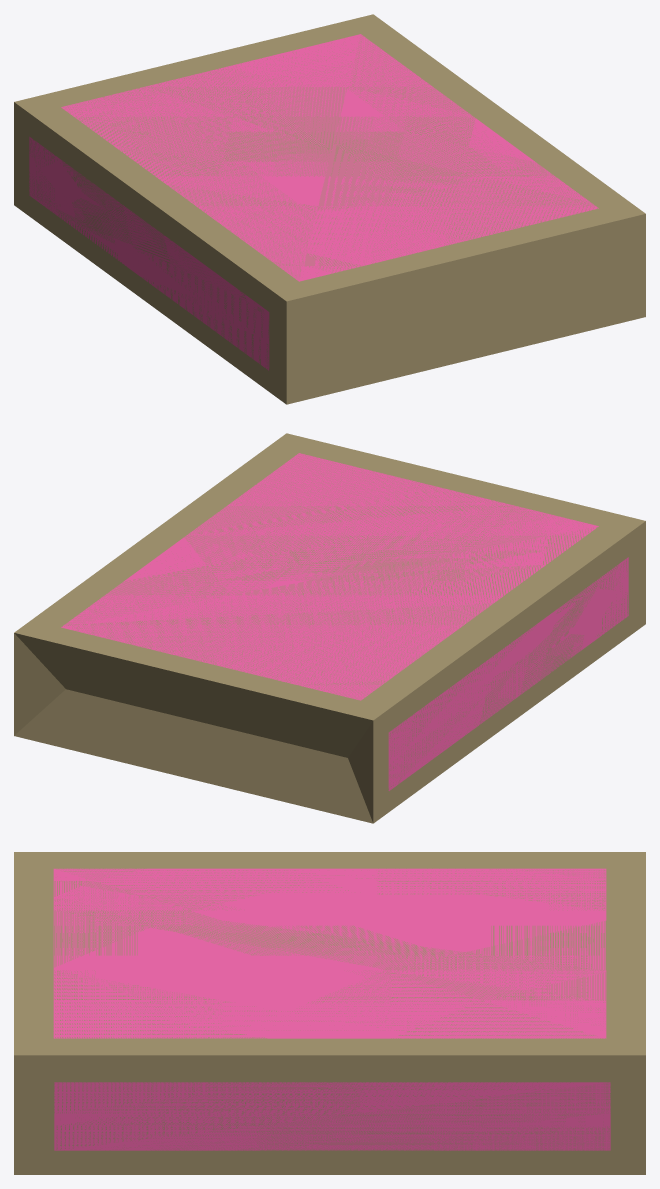
3 views of the same model, one above another, from view 1: azimuth 30°, elevation 25°; view 2: azimuth 150°, elevation 25°; view 3: azimuth 270°, elevation 25° (orthographic). The views are drawn at different scales.
Parts seen in each view (by area): view 1: cicipopo sugar cereal box closed; view 2: cicipopo sugar cereal box closed; view 3: cicipopo sugar cereal box closed.
Boxes of the visible parts, x1=… form: cicipopo sugar cereal box closed: x1=14, y1=14, x2=645, y2=404; cicipopo sugar cereal box closed: x1=14, y1=433, x2=645, y2=823; cicipopo sugar cereal box closed: x1=14, y1=852, x2=645, y2=1174.
Bounding box in the file's own units: 12.75 × 3.51 × 16.75.
